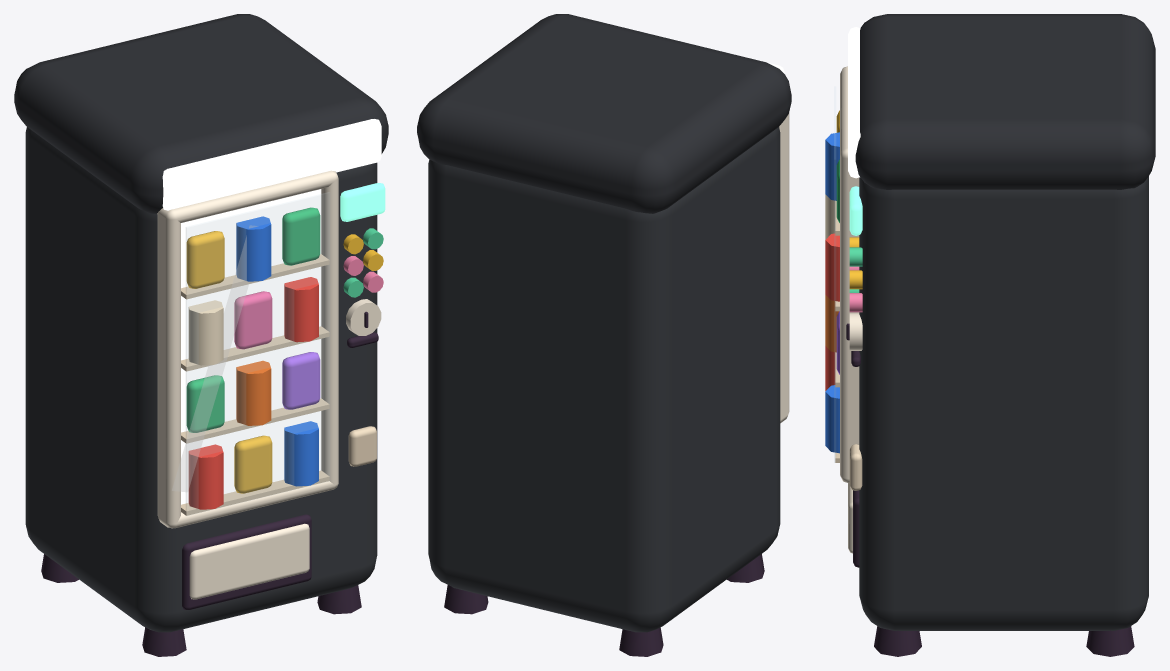
File: machine-tech.glb
The picture shows the model from 3 angles, left to right: view 1: azimuth 30°, elevation 25°; view 2: azimuth 150°, elevation 25°; view 3: azimuth 270°, elevation 25°; orthographic projection. The views are drawn at different scales.
Parts seen in each view (by area): view 1: cabinet, cap, glass, interior-back, header, machine-tech, frame-left, pickup-flap, frame-right, glass-shine, pickup-recess, frame-top (+16 smaller); view 2: cabinet, cap, frame-left, machine-tech; view 3: cabinet, cap, frame-right, machine-tech, header, slot-2-2, slot-0-2, slot-3-1, glass, frame-top, screen, slot-1-1 (+3 smaller).
Boxes of the visible parts, x1,y1,x2,y2 form: cabinet: [25, 127, 377, 632]; cap: [14, 14, 388, 213]; glass: [186, 192, 329, 515]; interior-back: [181, 189, 321, 504]; header: [162, 119, 381, 210]; machine-tech: [41, 228, 383, 656]; frame-left: [157, 208, 180, 528]; pickup-flap: [189, 523, 309, 599]; frame-right: [321, 171, 338, 488]; glass-shine: [172, 225, 257, 491]; pickup-recess: [182, 514, 311, 609]; frame-top: [158, 170, 338, 222]; cabinet: [428, 127, 780, 632]; cap: [417, 14, 791, 213]; frame-left: [779, 112, 789, 422]; machine-tech: [444, 554, 764, 656]; cabinet: [859, 176, 1148, 630]; cap: [855, 14, 1155, 189]; frame-right: [840, 151, 859, 482]; machine-tech: [835, 200, 1134, 656]; header: [848, 27, 860, 178]; slot-2-2: [825, 233, 839, 301]; slot-0-2: [825, 385, 839, 453]; slot-3-1: [825, 132, 839, 200]; glass: [834, 87, 835, 462]; frame-top: [840, 66, 847, 158]; screen: [849, 186, 862, 235]; slot-1-1: [825, 295, 838, 352].
Bounding box in the file's own units: 0.96 × 1.83 × 1.03.
